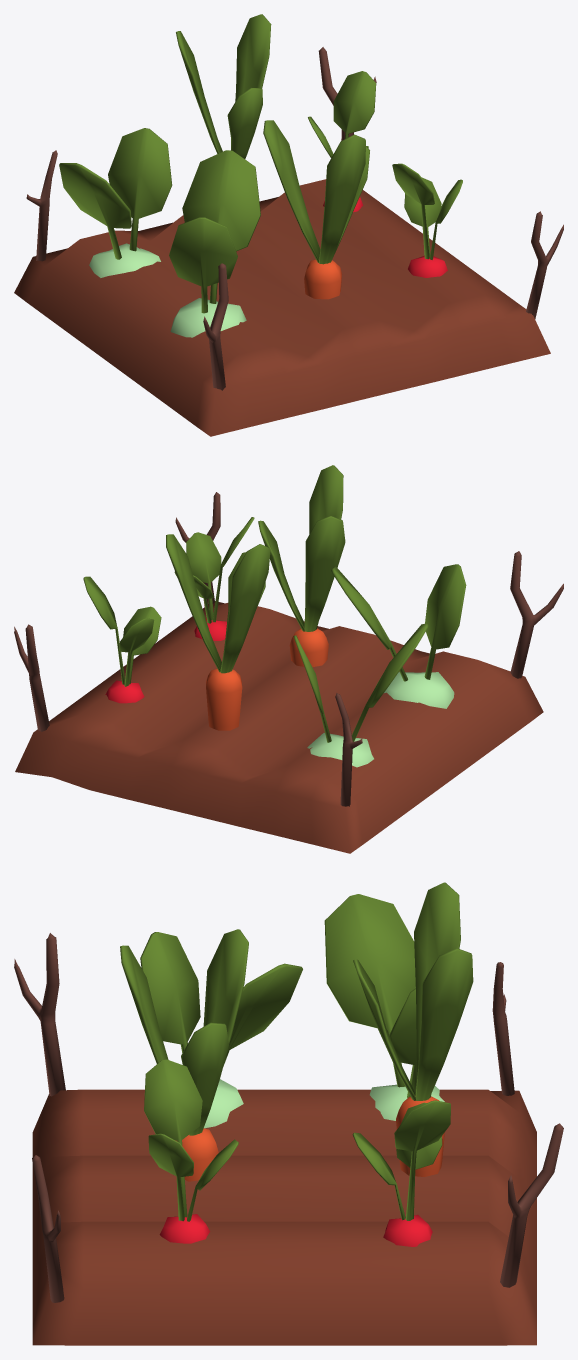
File: Veggie_Bed.fbx
The picture shows the model from 3 angles, top to bottom: view 1: azimuth 30°, elevation 25°; view 2: azimuth 150°, elevation 25°; view 3: azimuth 270°, elevation 25°; orthographic projection. The views are drawn at different scales.
Visible parts, largest first — view 1: earth.003, Kohl_leaves.005, Kohl_leaves.001, Carotte_leaves.004, Carotte_leaves.001, g_branch.003, raddish_leaves.005, raddish_leaves.001, kohl_fruit.005, kohl_fruit.001, Carotte_Fruit.004, raddish_fruit.005; view 2: earth.003, Carotte_leaves.004, Carotte_leaves.001, g_branch.003, Kohl_leaves.005, raddish_leaves.001, raddish_leaves.005, Carotte_Fruit.001, Kohl_leaves.001, kohl_fruit.005, kohl_fruit.001, Carotte_Fruit.004 (+1 smaller); view 3: earth.003, Kohl_leaves.001, Carotte_leaves.001, g_branch.003, Carotte_leaves.004, Kohl_leaves.005, raddish_leaves.005, raddish_leaves.001, raddish_fruit.001, Carotte_Fruit.004, raddish_fruit.005, kohl_fruit.001 (+2 smaller).
Boxes of the visible parts, left/top/right/bottom form: earth.003: left=14, top=179, right=550, bottom=436; Kohl_leaves.005: left=169, top=150, right=260, bottom=313; Kohl_leaves.001: left=59, top=128, right=172, bottom=259; Carotte_leaves.004: left=263, top=120, right=369, bottom=264; Carotte_leaves.001: left=176, top=14, right=271, bottom=158; g_branch.003: left=26, top=47, right=563, bottom=390; raddish_leaves.005: left=392, top=163, right=462, bottom=259; raddish_leaves.001: left=308, top=71, right=376, bottom=157; kohl_fruit.005: left=170, top=298, right=246, bottom=337; kohl_fruit.001: left=89, top=243, right=160, bottom=277; Carotte_Fruit.004: left=304, top=259, right=342, bottom=299; raddish_fruit.005: left=408, top=256, right=447, bottom=277; earth.003: left=15, top=601, right=543, bottom=853; Carotte_leaves.004: left=258, top=465, right=345, bottom=631; Carotte_leaves.001: left=166, top=534, right=270, bottom=673; g_branch.003: left=14, top=492, right=563, bottom=806; Kohl_leaves.005: left=331, top=564, right=466, bottom=681; raddish_leaves.001: left=83, top=576, right=161, bottom=686; raddish_leaves.005: left=174, top=517, right=254, bottom=623; Carotte_Fruit.001: left=206, top=668, right=242, bottom=730; Kohl_leaves.001: left=293, top=623, right=428, bottom=742; kohl_fruit.005: left=384, top=672, right=454, bottom=708; kohl_fruit.001: left=307, top=733, right=373, bottom=767; Carotte_Fruit.004: left=289, top=628, right=328, bottom=667; earth.003: left=32, top=1089, right=536, bottom=1345; Kohl_leaves.001: left=324, top=894, right=416, bottom=1097; Carotte_leaves.001: left=353, top=882, right=473, bottom=1100; g_branch.003: left=14, top=933, right=563, bottom=1302; Carotte_leaves.004: left=120, top=929, right=248, bottom=1135; Kohl_leaves.005: left=140, top=932, right=302, bottom=1066; raddish_leaves.005: left=144, top=1059, right=238, bottom=1221; raddish_leaves.001: left=352, top=1100, right=450, bottom=1220; raddish_fruit.001: left=383, top=1214, right=432, bottom=1246; Carotte_Fruit.004: left=175, top=1128, right=218, bottom=1181; raddish_fruit.005: left=159, top=1214, right=210, bottom=1243; kohl_fruit.001: left=369, top=1084, right=444, bottom=1120.
Size of the model in its own units: 190 by 142 by 188.
